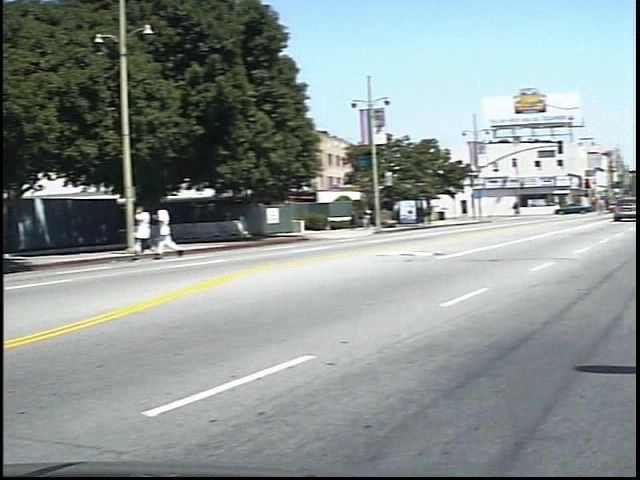person: (168, 199, 194, 260), (147, 197, 172, 260), (374, 203, 389, 230), (522, 195, 535, 219)
